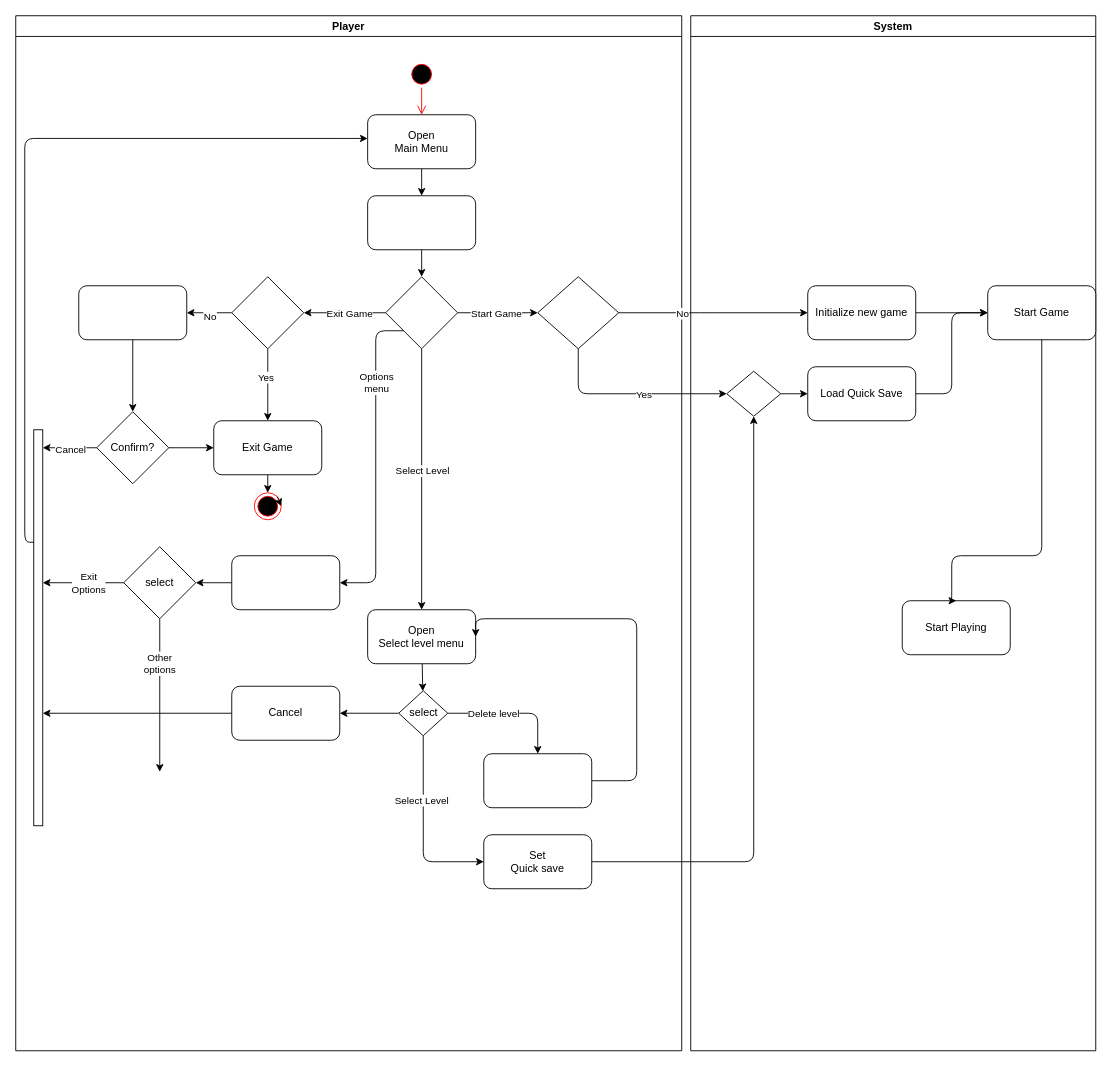
Some shapes in this 1112 by 1067 pixel diagram are drawn without their labels. Each missing label, with the centre of its shape:
choose: the point at 421,312
Confirm disabled?: the point at 267,312
Delete level file: the point at 537,780
Open confirm menu: the point at 132,312
Open Options menu: the point at 285,582
Quick Save Exists?: the point at 578,312
User chooses option: the point at 421,222
